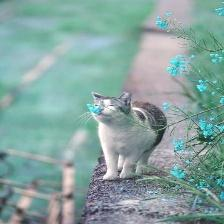kedo: (89, 91, 169, 181)
